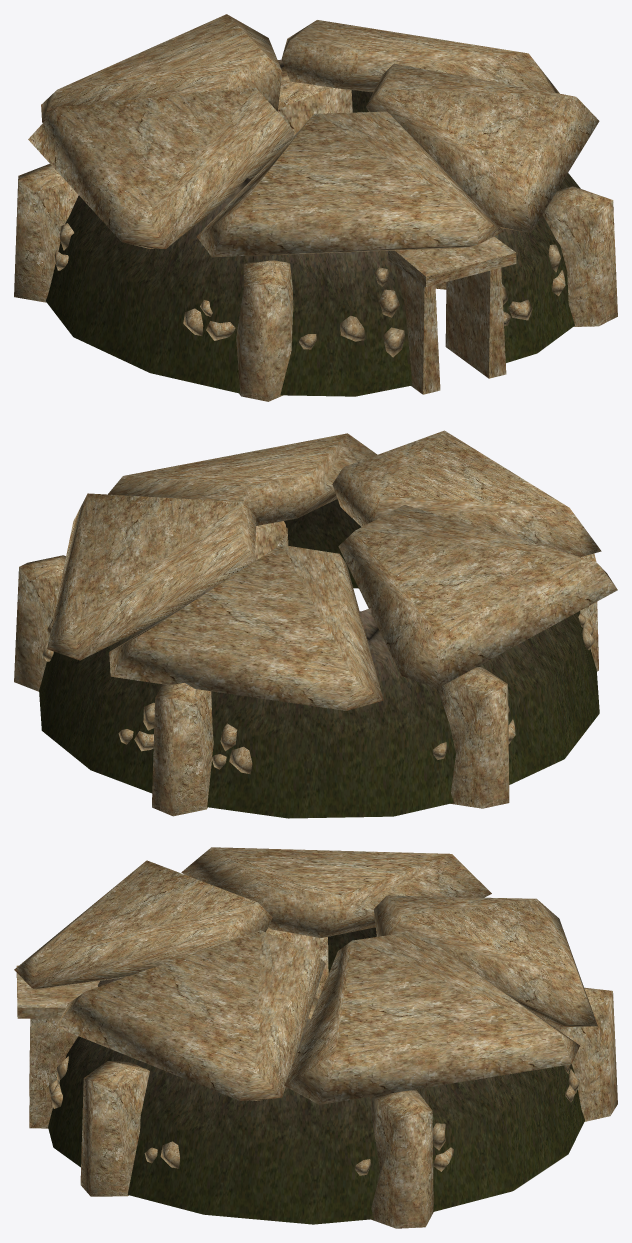
Rendered from thm_dant_large_hut_l2.fbx.
The picture shows the model from 3 angles, top to bottom: view 1: azimuth 30°, elevation 25°; view 2: azimuth 150°, elevation 25°; view 3: azimuth 270°, elevation 25°; orthographic projection. The views are drawn at different scales.
Parts seen in each view (by area): view 1: mesh_node; view 2: mesh_node; view 3: mesh_node.
Boxes of the visible parts, x1=… form: mesh_node: x1=14, y1=14, x2=617, y2=401; mesh_node: x1=14, y1=430, x2=617, y2=818; mesh_node: x1=14, y1=847, x2=617, y2=1228.
Size of the model in its own units: 22.79 by 8.71 by 24.29.
